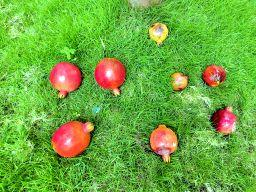pomegranate: (51, 121, 95, 157), (49, 61, 82, 99), (94, 58, 126, 96), (149, 123, 179, 162), (211, 105, 238, 136), (202, 65, 227, 87), (149, 22, 169, 46), (171, 71, 189, 92)
